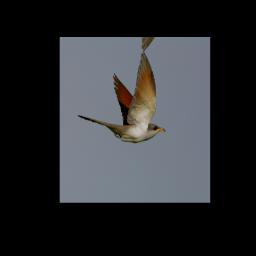Cuckoo: (77, 40, 172, 149)
